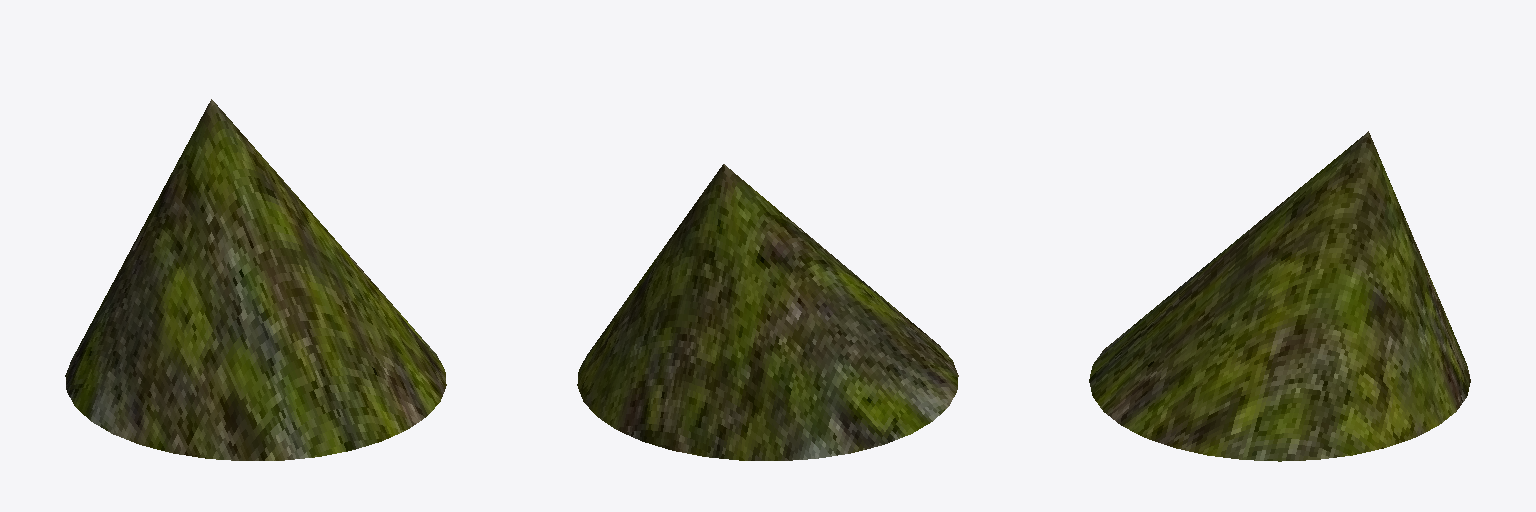
The picture shows the model from 3 angles: view 1: azimuth 30°, elevation 25°; view 2: azimuth 150°, elevation 25°; view 3: azimuth 270°, elevation 25°; orthographic projection.
Parts seen in each view (by area): view 1: 円錐.001; view 2: 円錐.001; view 3: 円錐.001.
Part boxes in pixels (bbox=[...]): 円錐.001: bbox=[65, 99, 446, 460]; 円錐.001: bbox=[577, 164, 958, 460]; 円錐.001: bbox=[1089, 131, 1470, 461].
Size of the model in its own units: 2 by 1.44 by 2.
Materials: 1 (1 with a texture image).